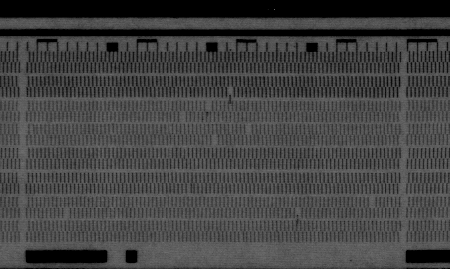Broken hole: (60, 207, 75, 221), (366, 194, 378, 209), (203, 100, 216, 113), (208, 134, 222, 146), (177, 110, 189, 123), (243, 122, 253, 136)
Oblique printing: (292, 206, 304, 221), (224, 86, 234, 103), (184, 182, 197, 194)
